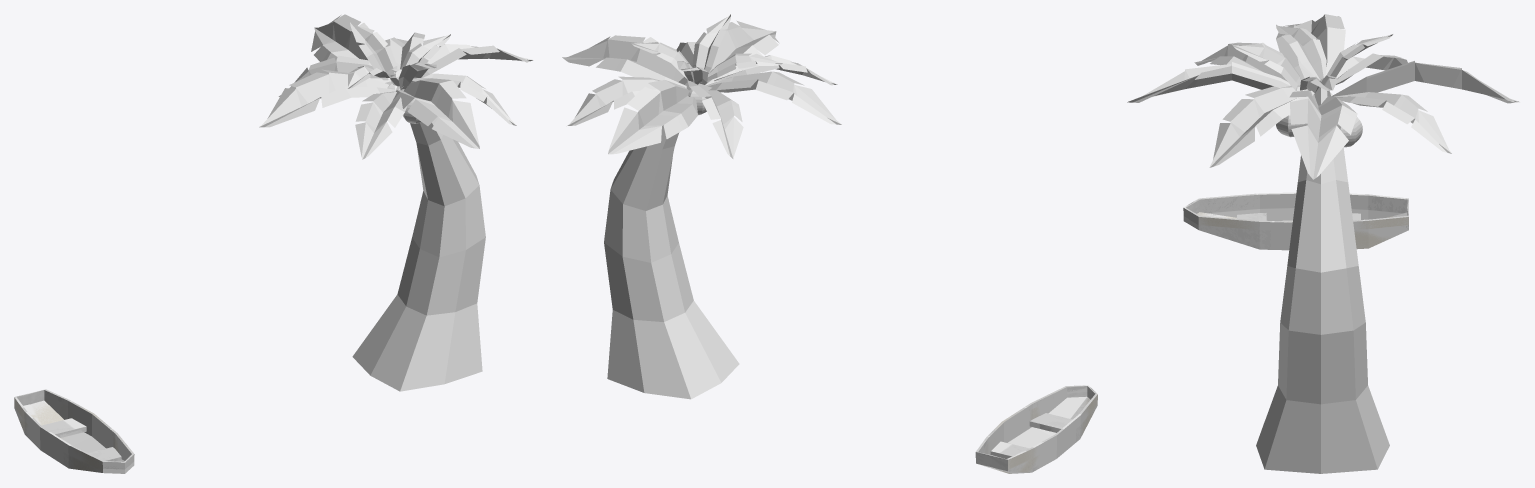
File: CANOA 01 .fbx
3 views of the same model, side by side, from view 1: azimuth 30°, elevation 25°; view 2: azimuth 150°, elevation 25°; view 3: azimuth 270°, elevation 25° (orthographic). The views are drawn at different scales.
Parts seen in each view (by area): view 1: Cube, Cube.002, Plane.003, Plane.004, Plane.007, Plane, Plane.002, Plane.011, Plane.005, Plane.001, Plane.009, Plane.006; view 2: Cube, Cube.002, Plane, Plane.002, Plane.004, Plane.006, Plane.003, Plane.001, Plane.010, Plane.007, Plane.008, Plane.009; view 3: Cube, Cube.002, Plane.002, Plane.005, Plane, Plane.003, Plane.006, Plane.004, Plane.008, Plane.010, Plane.007, Plane.001 (+2 smaller).
Boxes of the visible parts, box(x1,y1,x2,y2) form: Cube: box(352, 69, 485, 391); Cube.002: box(14, 389, 134, 473); Plane.003: box(392, 78, 479, 148); Plane.004: box(259, 69, 396, 127); Plane.007: box(355, 91, 407, 159); Plane: box(311, 14, 386, 83); Plane.002: box(396, 44, 532, 90); Plane.011: box(350, 22, 397, 84); Plane.005: box(412, 73, 516, 125); Plane.001: box(278, 55, 390, 96); Plane.009: box(401, 34, 450, 90); Plane.006: box(385, 32, 424, 69); Cube: box(604, 77, 739, 399); Cube.002: box(975, 385, 1097, 473); Plane: box(608, 80, 697, 154); Plane.002: box(562, 35, 686, 88); Plane.004: box(706, 71, 841, 124); Plane.006: box(567, 76, 660, 125); Plane.003: box(705, 20, 779, 85); Plane.001: box(687, 80, 743, 158); Plane.010: box(692, 14, 730, 73); Plane.007: box(714, 55, 837, 85); Plane.008: box(701, 53, 782, 82); Plane.009: box(631, 42, 692, 79); Cube: box(1256, 76, 1389, 473); Cube.002: box(1183, 192, 1408, 250); Plane.002: box(1289, 90, 1357, 179); Plane.005: box(1209, 85, 1314, 167); Plane: box(1331, 61, 1519, 103); Plane.003: box(1127, 62, 1290, 102); Plane.006: box(1334, 92, 1451, 153); Plane.004: box(1276, 14, 1345, 79); Plane.008: box(1276, 24, 1326, 80); Plane.010: box(1232, 43, 1300, 90); Plane.007: box(1194, 42, 1287, 81); Plane.001: box(1335, 53, 1407, 84).
Size of the model in its own units: 1938 by 1244 by 1135.
